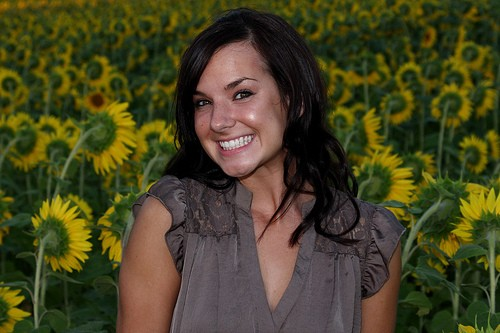flower: (346, 144, 418, 222), (29, 194, 94, 276), (77, 100, 139, 175), (450, 185, 500, 275)
